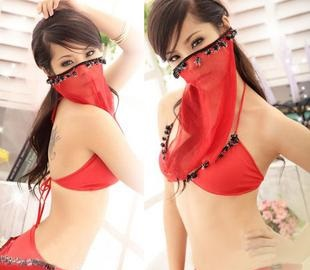face_mask: (165, 18, 223, 88), (49, 38, 103, 96)
